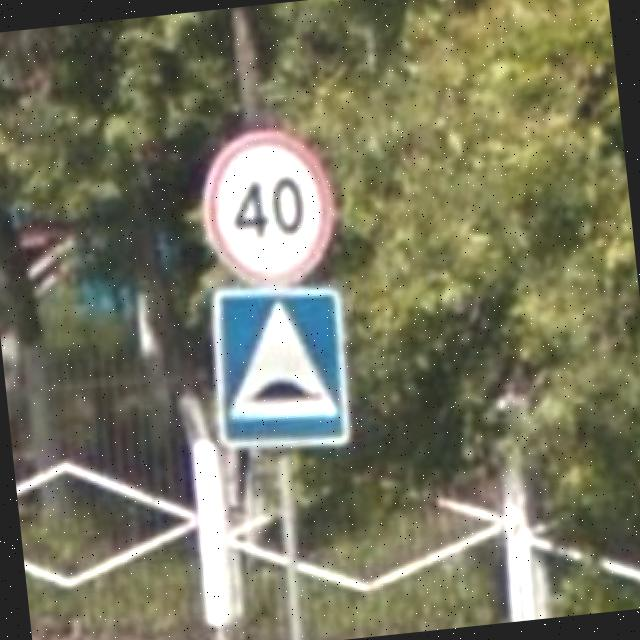Ograniczenie predkosci do 40: (191, 121, 343, 297)
